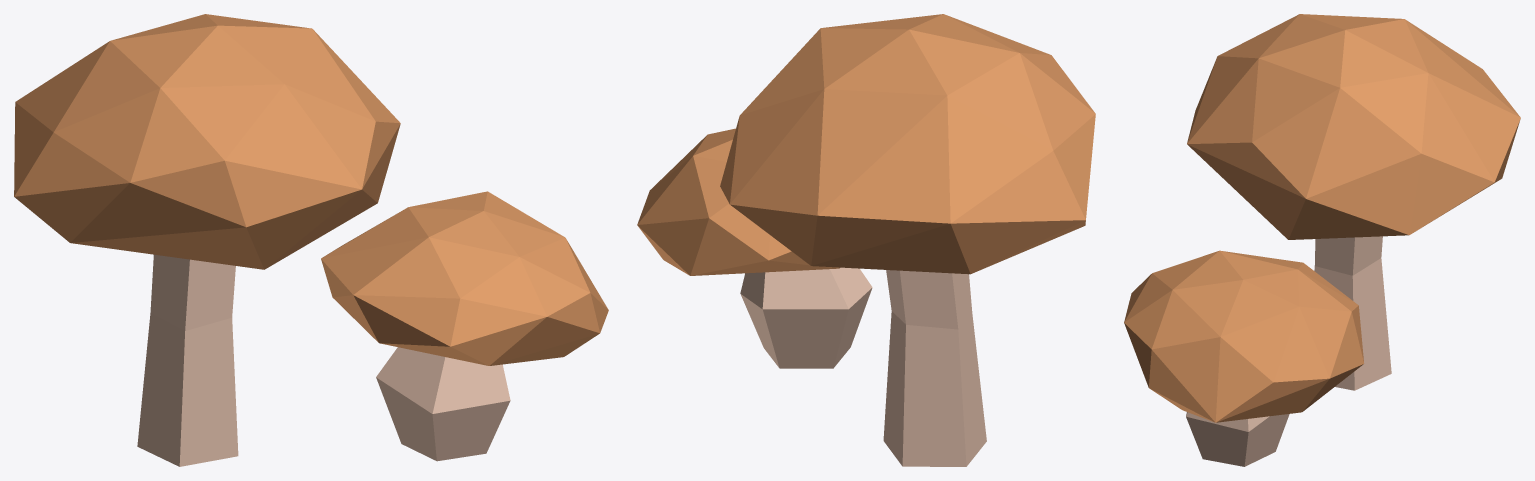
The model's file is Mushroom_f_08.fbx.
3 views of the same model, side by side, from view 1: azimuth 30°, elevation 25°; view 2: azimuth 150°, elevation 25°; view 3: azimuth 270°, elevation 25° (orthographic). The views are drawn at different scales.
Parts seen in each view (by area): view 1: Mushroom_f_08; view 2: Mushroom_f_08; view 3: Mushroom_f_08.
Boxes of the visible parts, <box> form: Mushroom_f_08: <box>14,14,608,466</box>; Mushroom_f_08: <box>637,14,1095,466</box>; Mushroom_f_08: <box>1124,14,1520,466</box>.
Size of the model in its own units: 39.62 by 30.9 by 31.53.
